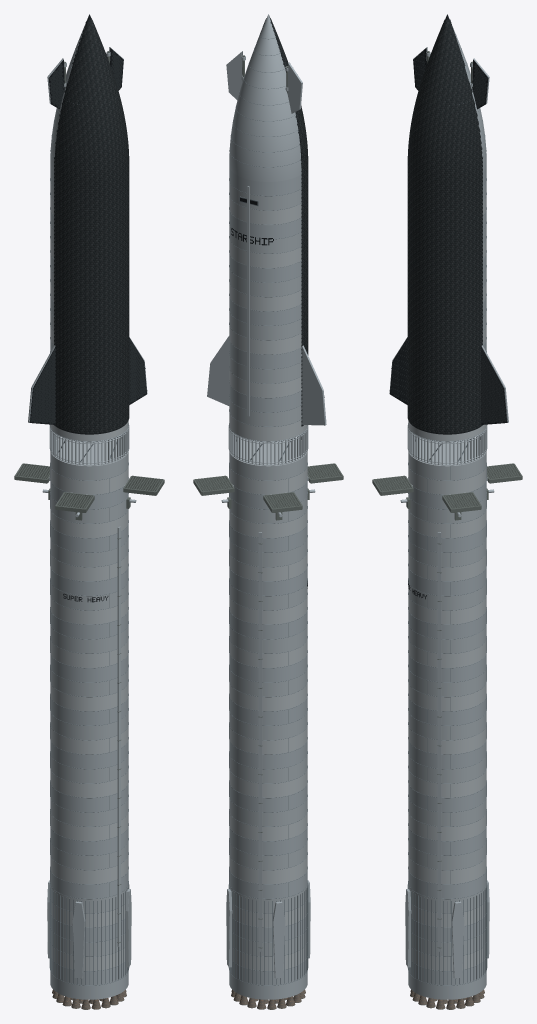
Rendered from starship.glb.
The picture shows the model from 3 angles, left to right: view 1: azimuth 30°, elevation 25°; view 2: azimuth 150°, elevation 25°; view 3: azimuth 330°, elevation 25°; orthographic projection.
Visible parts, largest first — view 1: booster-steel-panel-2, booster-steel-panel-1, booster-steel-panel-0, heat-shield-thermal-tile-0, heat-shield-thermal-tile-2, heat-shield-thermal-tile-3, heat-shield-thermal-tile-1, booster-welded-seams, booster-brushed-stainless-steel, hotstage-brushed-stainless-steel, aft-flap-left-flap-thermal-tiles, tile-substrate-thermal-substrate (+8 smaller); view 2: booster-steel-panel-2, booster-steel-panel-1, booster-steel-panel-0, ship-brushed-stainless-steel, ship-steel-panel-1, ship-steel-panel-0, ship-steel-panel-2, booster-welded-seams, booster-brushed-stainless-steel, ship-welded-seams, hotstage-brushed-stainless-steel, aft-flap-left-brushed-stainless-steel (+10 smaller); view 3: booster-steel-panel-2, booster-steel-panel-1, booster-steel-panel-0, heat-shield-thermal-tile-0, heat-shield-thermal-tile-2, heat-shield-thermal-tile-3, heat-shield-thermal-tile-1, booster-welded-seams, booster-brushed-stainless-steel, hotstage-brushed-stainless-steel, aft-flap-right-flap-thermal-tiles, tile-substrate-thermal-substrate (+8 smaller).
Boxes of the visible parts, box(x1,y1,x2,y2) form: booster-steel-panel-2: box(50, 437, 128, 956); booster-steel-panel-1: box(50, 467, 128, 970); booster-steel-panel-0: box(50, 481, 128, 985); heat-shield-thermal-tile-0: box(54, 18, 129, 434); heat-shield-thermal-tile-2: box(54, 19, 129, 434); heat-shield-thermal-tile-3: box(54, 21, 128, 434); heat-shield-thermal-tile-1: box(54, 19, 129, 434); booster-welded-seams: box(49, 463, 129, 985); booster-brushed-stainless-steel: box(42, 489, 136, 999); hotstage-brushed-stainless-steel: box(49, 425, 129, 465); aft-flap-left-flap-thermal-tiles: box(29, 349, 55, 424); tile-substrate-thermal-substrate: box(54, 14, 126, 434); booster-steel-panel-2: box(229, 437, 307, 956); booster-steel-panel-1: box(229, 467, 307, 970); booster-steel-panel-0: box(229, 481, 307, 985); ship-brushed-stainless-steel: box(229, 14, 301, 416); ship-steel-panel-1: box(229, 196, 307, 441); ship-steel-panel-0: box(229, 167, 301, 412); ship-steel-panel-2: box(229, 182, 301, 427); booster-welded-seams: box(228, 463, 308, 985); booster-brushed-stainless-steel: box(221, 489, 315, 999); ship-welded-seams: box(229, 35, 307, 441); hotstage-brushed-stainless-steel: box(228, 425, 308, 465); aft-flap-left-brushed-stainless-steel: box(301, 345, 326, 425); booster-steel-panel-2: box(408, 437, 486, 956); booster-steel-panel-1: box(408, 467, 486, 970); booster-steel-panel-0: box(408, 481, 486, 985); heat-shield-thermal-tile-0: box(407, 19, 482, 434); heat-shield-thermal-tile-2: box(407, 19, 482, 434); heat-shield-thermal-tile-3: box(407, 22, 481, 434); heat-shield-thermal-tile-1: box(407, 19, 481, 434); booster-welded-seams: box(407, 463, 487, 985); booster-brushed-stainless-steel: box(400, 489, 494, 999); hotstage-brushed-stainless-steel: box(407, 425, 487, 465); aft-flap-right-flap-thermal-tiles: box(481, 349, 507, 424); tile-substrate-thermal-substrate: box(410, 14, 482, 434).
Size of the model in its own units: 15.72 by 124 by 14.4.
